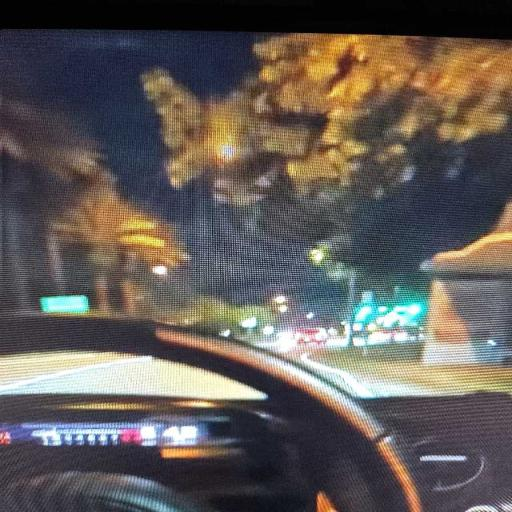car: (0, 316, 511, 511)
lane: (0, 356, 265, 399), (308, 349, 511, 396), (300, 353, 424, 397), (0, 351, 135, 386)
